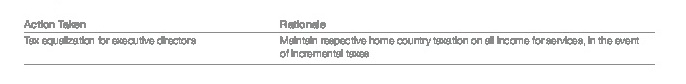table: (0, 0, 686, 84)
